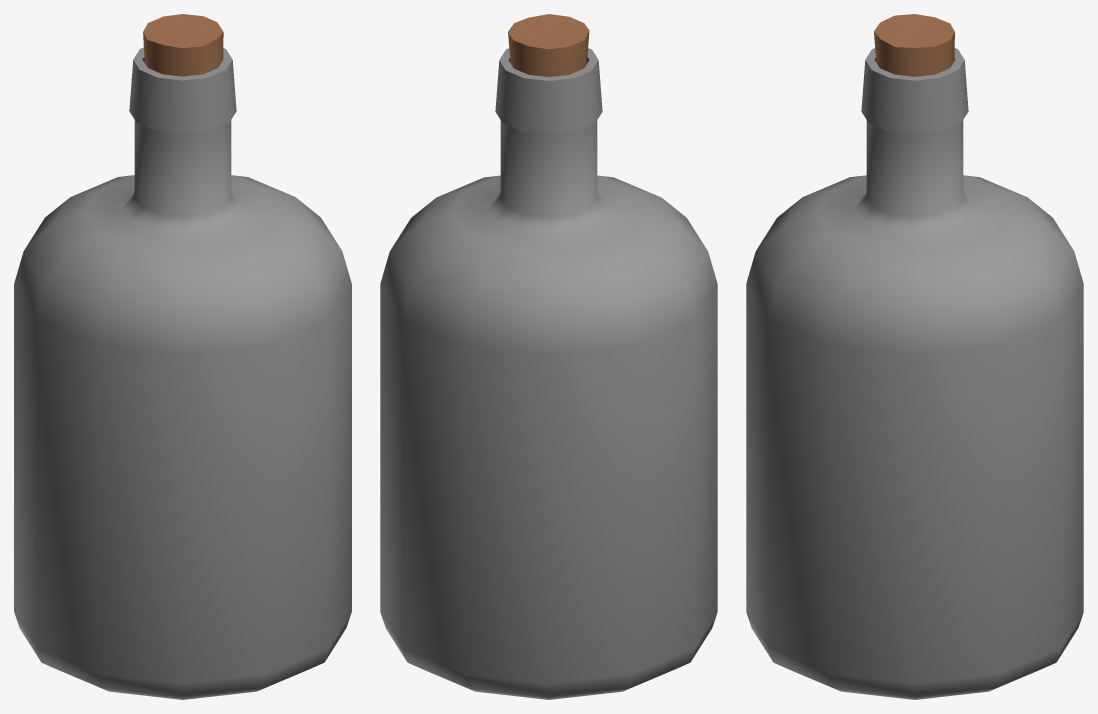
Rendered from Bottle03.FBX.
The picture shows the model from 3 angles, left to right: view 1: azimuth 30°, elevation 25°; view 2: azimuth 150°, elevation 25°; view 3: azimuth 270°, elevation 25°; orthographic projection.
Visible parts, largest first — view 1: Bottle03; view 2: Bottle03; view 3: Bottle03.
Part boxes in pixels (x1,y1,x2,y2): Bottle03: (14,14,351,699); Bottle03: (380,14,717,699); Bottle03: (746,14,1083,699).
Bounding box in the file's own units: 4.17 × 8.33 × 4.17.
